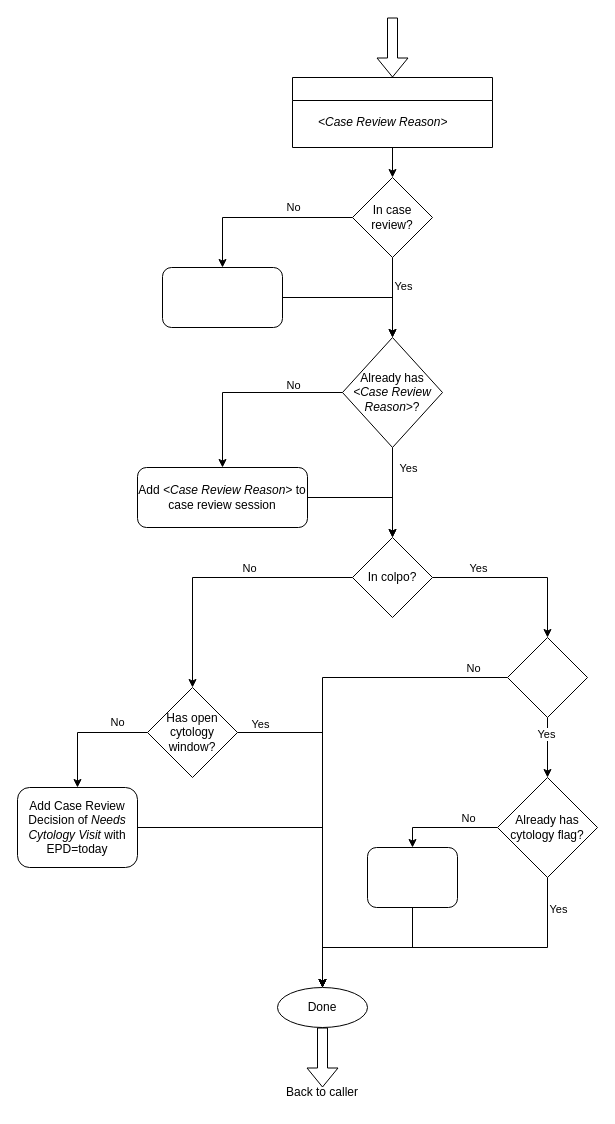
Some shapes in this 615 by 1124 pixel diagram are drawn without their labels. The shapes that lost their labels are listed below. From the top down, each one's box as (x1, y1, x2, y2) in pixels, then its label:
(292, 76, 492, 148): Send to Cytology
(162, 266, 282, 328): Add participant to case review
(506, 636, 588, 718): Open colpo window?
(366, 846, 458, 908): Add cytology flag to colpo decision
